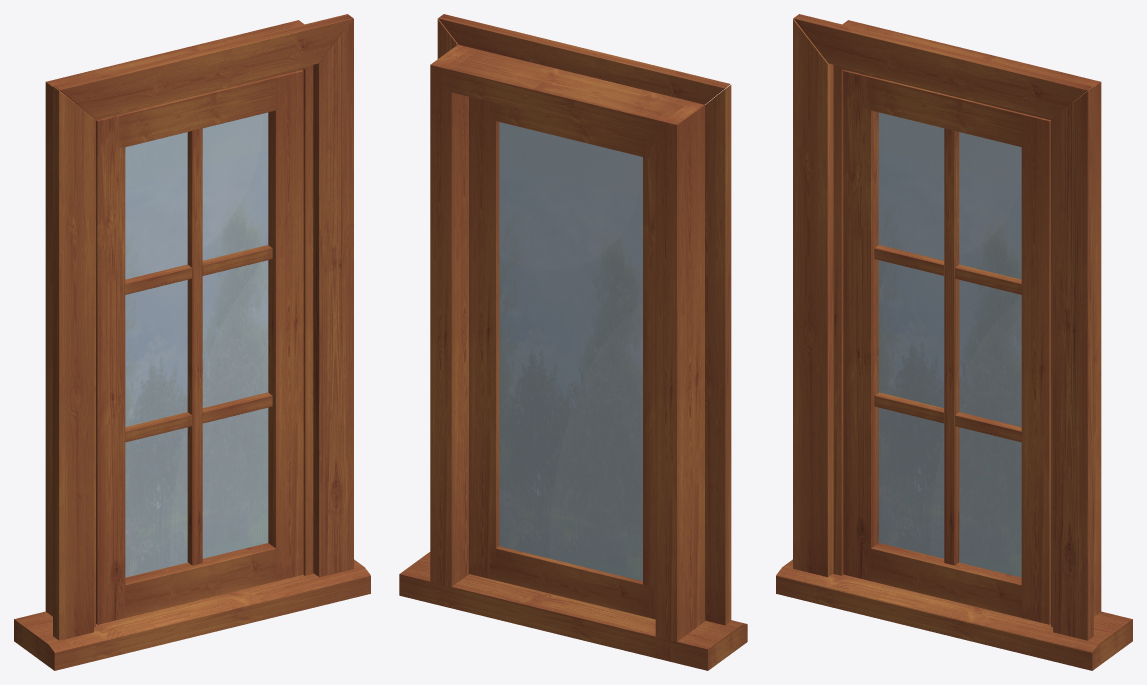
3 views of the same model, side by side, from view 1: azimuth 30°, elevation 25°; view 2: azimuth 150°, elevation 25°; view 3: azimuth 330°, elevation 25° (orthographic). The views are drawn at different scales.
Parts seen in each view (by area): view 1: glass, trim_left, trim_right, window_right, window_left, box_bottom, trim_top, muttin_vertical001, window_bottom, box_right, window_top, box_left (+5 smaller); view 2: glass, box_left, box_right, window_right, trim_left, box_bottom, box_top, trim_top, window_left, window_bottom, window_top; view 3: glass, trim_right, trim_left, window_left, window_right, box_bottom, trim_top, muttin_vertical001, window_bottom, box_left, window_top, box_right (+5 smaller).
Boxes of the visible parts, <box> form: glass: <box>125,112,268,577</box>; trim_left: <box>53,86,93,640</box>; trim_right: <box>313,18,353,577</box>; window_right: <box>268,70,303,580</box>; window_left: <box>96,113,125,624</box>; box_bottom: <box>14,559,370,670</box>; trim_top: <box>54,14,353,117</box>; muttin_vertical001: <box>187,128,202,565</box>; window_bottom: <box>118,543,282,619</box>; box_right: <box>278,20,313,575</box>; window_top: <box>118,76,281,148</box>; box_left: <box>45,78,95,627</box>; glass: <box>499,122,642,581</box>; box_left: <box>655,100,704,661</box>; box_right: <box>430,44,478,608</box>; window_right: <box>469,97,499,579</box>; trim_left: <box>705,85,731,625</box>; box_bottom: <box>399,552,747,670</box>; box_top: <box>444,48,690,143</box>; trim_top: <box>438,14,730,104</box>; window_left: <box>643,139,655,619</box>; window_bottom: <box>489,546,649,617</box>; window_top: <box>489,102,649,158</box>; glass: <box>878,112,1021,577</box>; trim_right: <box>1053,86,1093,640</box>; trim_left: <box>793,18,833,577</box>; window_left: <box>843,70,878,580</box>; window_right: <box>1021,113,1050,624</box>; box_bottom: <box>776,559,1132,670</box>; trim_top: <box>793,14,1092,117</box>; muttin_vertical001: <box>944,128,959,565</box>; window_bottom: <box>864,543,1027,619</box>; box_left: <box>833,20,869,575</box>; window_top: <box>864,76,1028,148</box>; box_right: <box>1051,76,1101,627</box>.
Bounding box in the file's own units: 22.5 × 39 × 5.
Materials: 7 (7 with a texture image).
